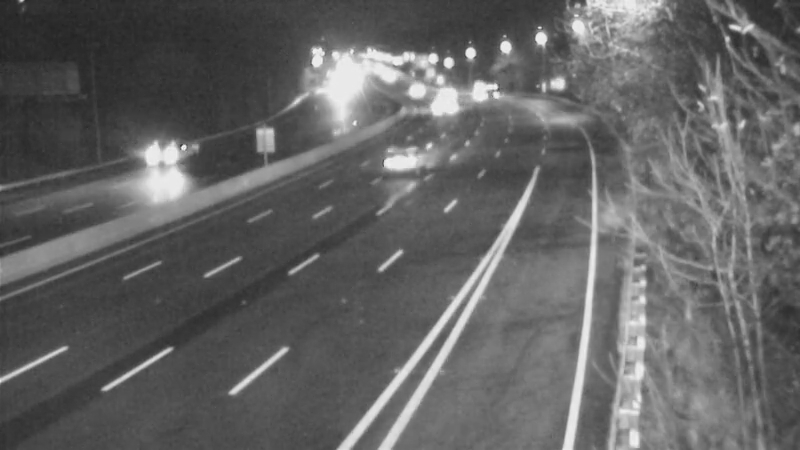vehicle: (365, 124, 445, 204), (123, 116, 203, 196), (361, 54, 411, 104), (458, 66, 508, 116), (389, 66, 439, 116), (419, 65, 469, 115), (417, 80, 467, 130), (313, 68, 363, 118)
